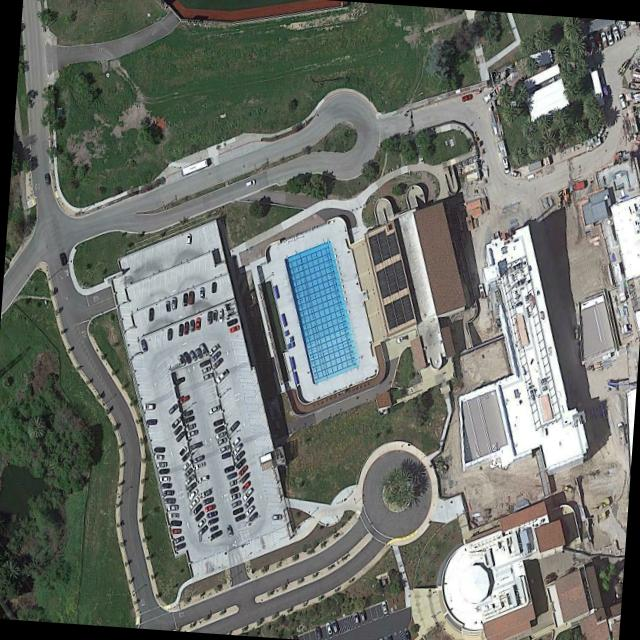large-vehicle: (615, 421, 626, 446), (213, 368, 227, 384), (603, 28, 613, 45), (599, 30, 607, 48), (610, 26, 620, 40), (616, 93, 625, 108), (587, 35, 595, 50), (501, 156, 508, 172), (477, 283, 484, 299), (395, 335, 406, 343)
small-vehicle: (226, 420, 239, 435), (210, 356, 223, 371), (232, 449, 245, 463), (206, 343, 219, 356), (240, 487, 252, 501), (234, 456, 246, 470), (169, 415, 181, 428), (186, 496, 198, 509), (235, 464, 247, 477), (593, 34, 602, 51), (172, 541, 185, 552), (238, 471, 249, 484), (208, 529, 221, 540), (198, 487, 211, 498), (188, 441, 202, 451), (179, 459, 190, 471), (186, 488, 197, 500), (209, 350, 220, 362), (245, 512, 257, 523), (180, 351, 191, 363), (193, 510, 204, 522), (196, 524, 207, 536), (205, 405, 218, 415), (242, 496, 252, 509), (231, 443, 241, 456), (184, 482, 197, 492), (166, 403, 177, 414), (174, 431, 185, 442), (181, 467, 192, 478), (191, 503, 202, 514), (183, 473, 193, 485), (185, 428, 197, 438), (242, 505, 254, 515), (213, 430, 225, 440), (182, 414, 194, 424), (313, 625, 321, 640), (233, 512, 245, 522), (197, 343, 206, 356), (197, 359, 210, 368), (202, 503, 215, 512), (212, 424, 225, 433), (379, 601, 387, 615), (323, 621, 331, 635), (175, 355, 185, 366), (172, 424, 182, 435), (193, 460, 204, 470), (186, 350, 196, 361), (177, 394, 188, 404), (239, 481, 249, 492), (223, 524, 232, 536), (229, 499, 241, 508), (231, 506, 243, 515), (206, 516, 218, 525), (402, 627, 410, 640), (58, 252, 66, 265), (179, 452, 189, 462), (229, 437, 239, 447), (195, 517, 204, 528), (215, 436, 226, 445), (200, 372, 211, 381), (181, 409, 192, 418), (225, 471, 236, 480), (227, 485, 238, 494), (202, 496, 213, 505), (186, 291, 193, 305), (146, 307, 153, 321), (171, 535, 183, 543), (138, 339, 146, 351), (228, 492, 240, 500), (242, 179, 254, 187), (172, 376, 184, 384), (225, 318, 237, 326), (219, 451, 231, 459), (211, 418, 223, 426), (168, 520, 181, 527), (193, 317, 200, 330), (169, 297, 176, 310), (42, 172, 49, 185), (177, 446, 186, 456), (197, 474, 207, 483), (217, 444, 227, 453), (165, 504, 176, 512), (191, 455, 202, 463), (460, 94, 471, 102), (198, 366, 209, 374), (227, 325, 238, 333), (184, 423, 195, 431), (223, 465, 234, 473), (168, 527, 180, 534), (216, 309, 222, 323), (182, 321, 188, 335), (152, 446, 164, 453), (205, 310, 211, 324), (205, 511, 217, 518), (193, 348, 201, 358), (181, 293, 187, 306), (176, 324, 182, 337), (166, 512, 177, 519), (141, 403, 152, 410), (162, 498, 174, 504), (165, 328, 171, 340), (330, 620, 336, 632), (352, 611, 358, 623), (208, 524, 217, 532), (157, 468, 168, 474), (144, 419, 155, 425), (358, 609, 364, 620), (198, 286, 203, 299), (188, 319, 193, 332), (163, 299, 168, 312), (211, 309, 216, 322), (227, 479, 236, 486), (160, 483, 170, 489), (158, 476, 168, 482), (270, 514, 280, 520), (184, 233, 189, 245), (162, 490, 173, 495), (155, 462, 166, 467), (152, 455, 162, 460), (210, 281, 214, 293)
